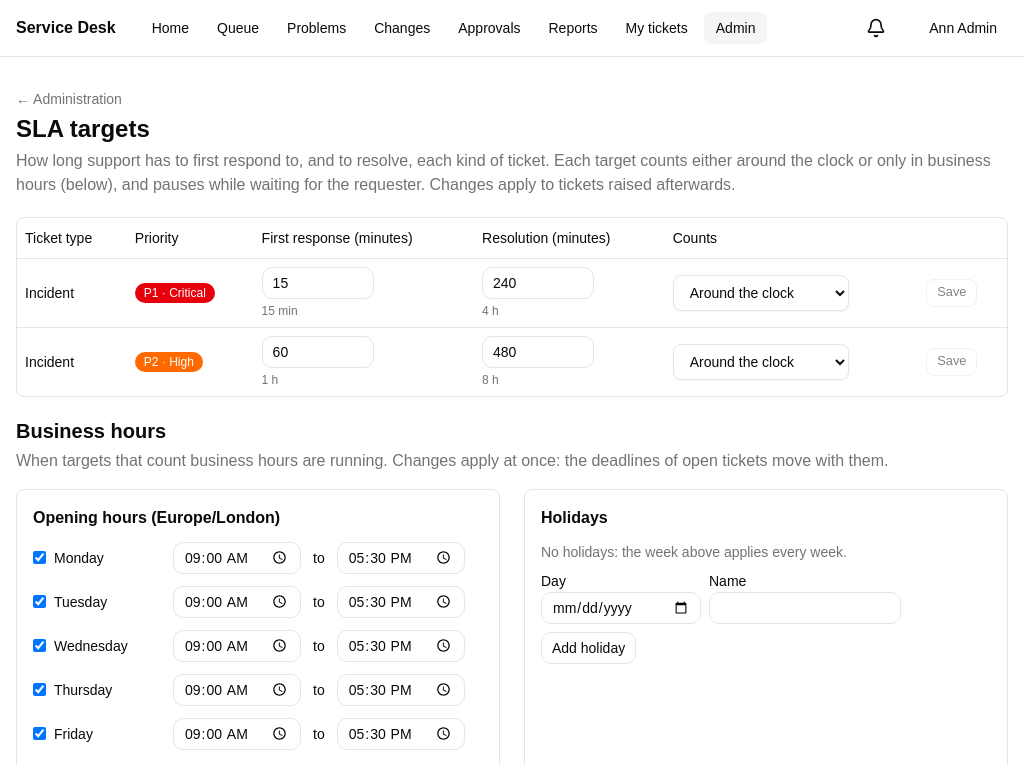
SLA targets page › adds and removes holidays, and explains a duplicate
In the date field labelled "Day": (621, 608) [541, 592, 701, 624], type "2026-12-25"
In the field labelled "Name": (805, 608) [709, 592, 901, 624], type "Christmas Day"
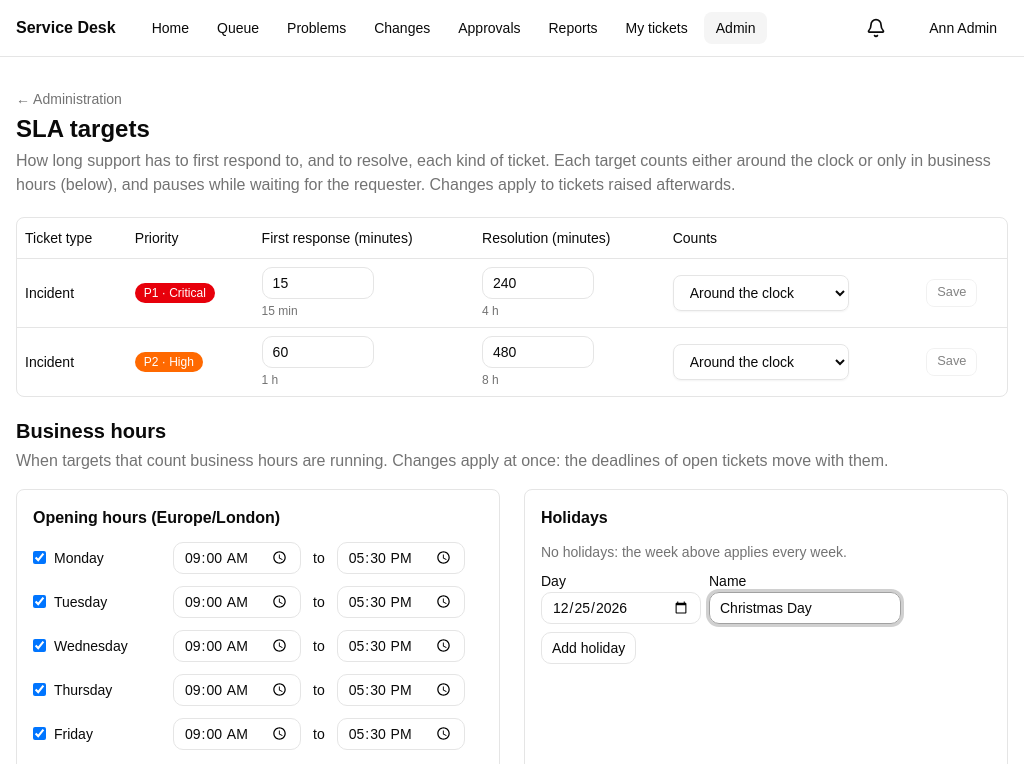
Click the button "Add holiday": (589, 648) [541, 632, 636, 664]
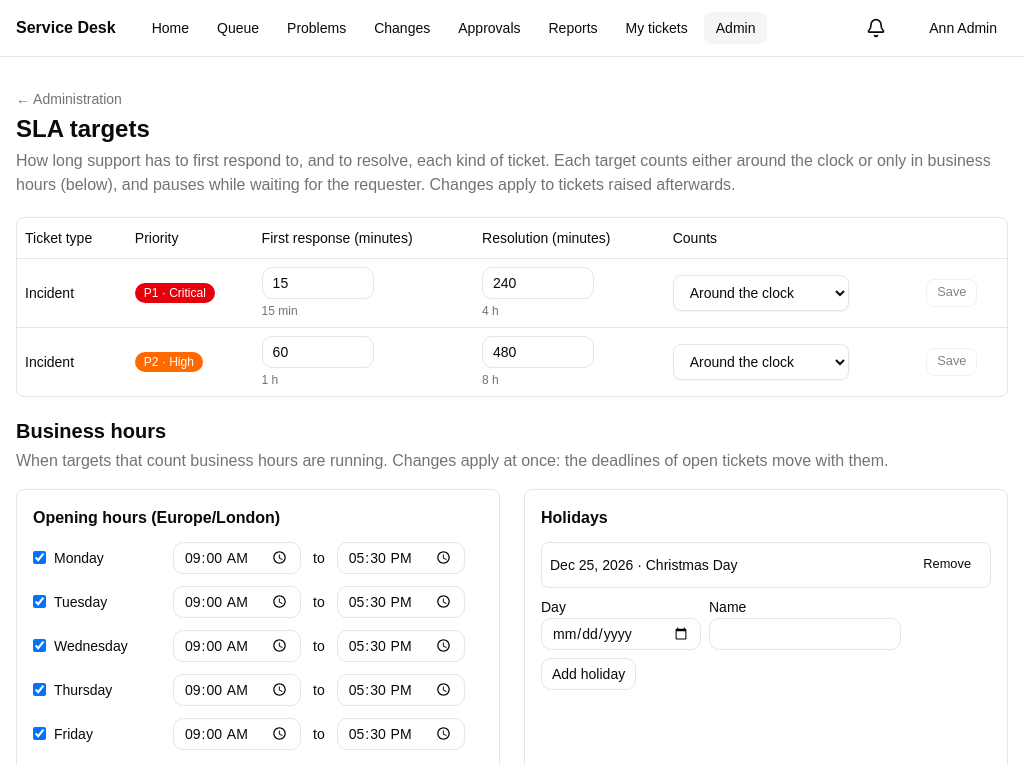
Check: the text "Christmas Day" is shown, box [646, 556, 738, 572]
In the date field labelled "Day": (621, 634) [541, 618, 701, 650], type "2026-12-25"
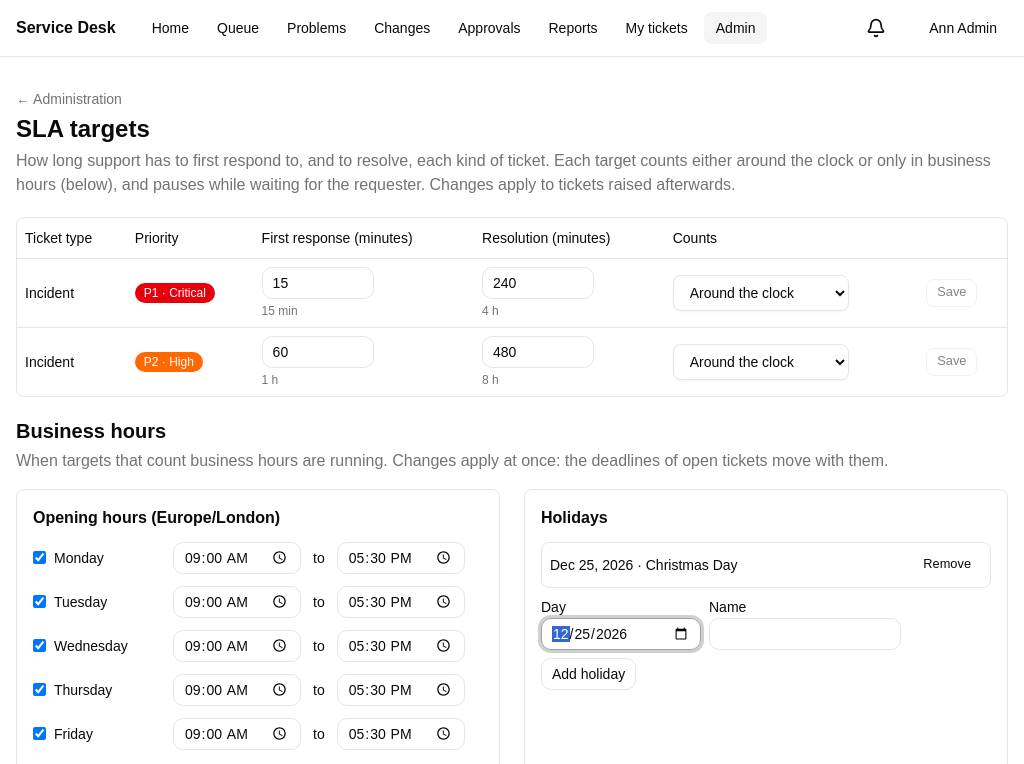
In the field labelled "Name": (805, 634) [709, 618, 901, 650], type "Christmas Day"
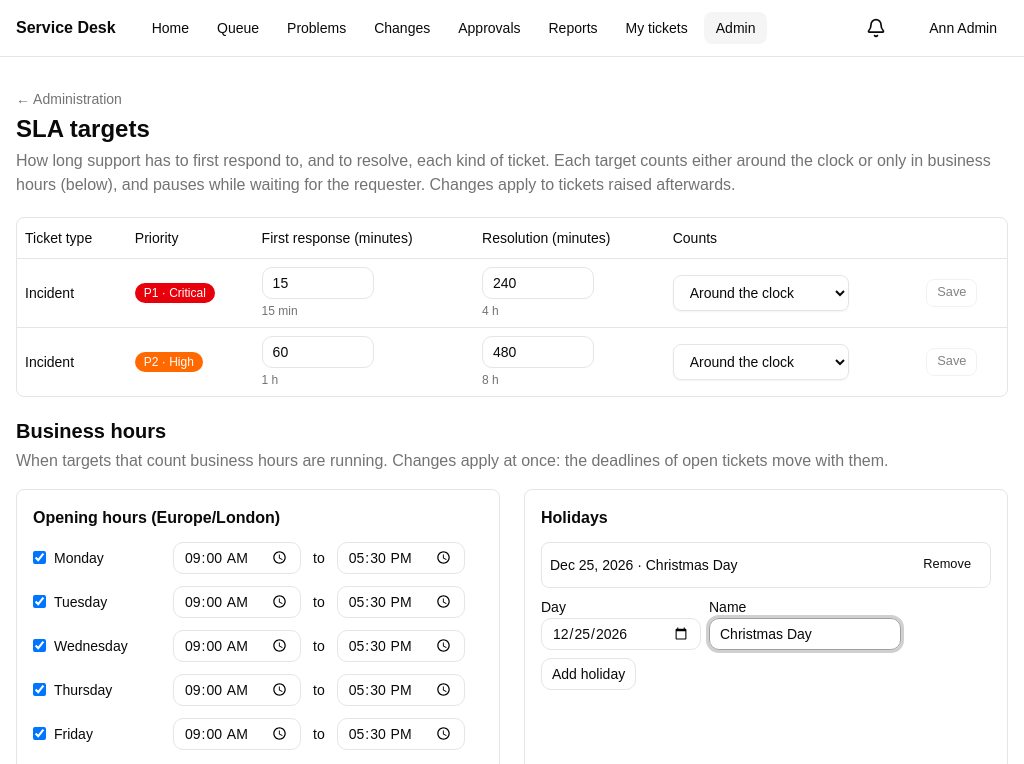
Click the button "Add holiday": (589, 674) [541, 658, 636, 690]
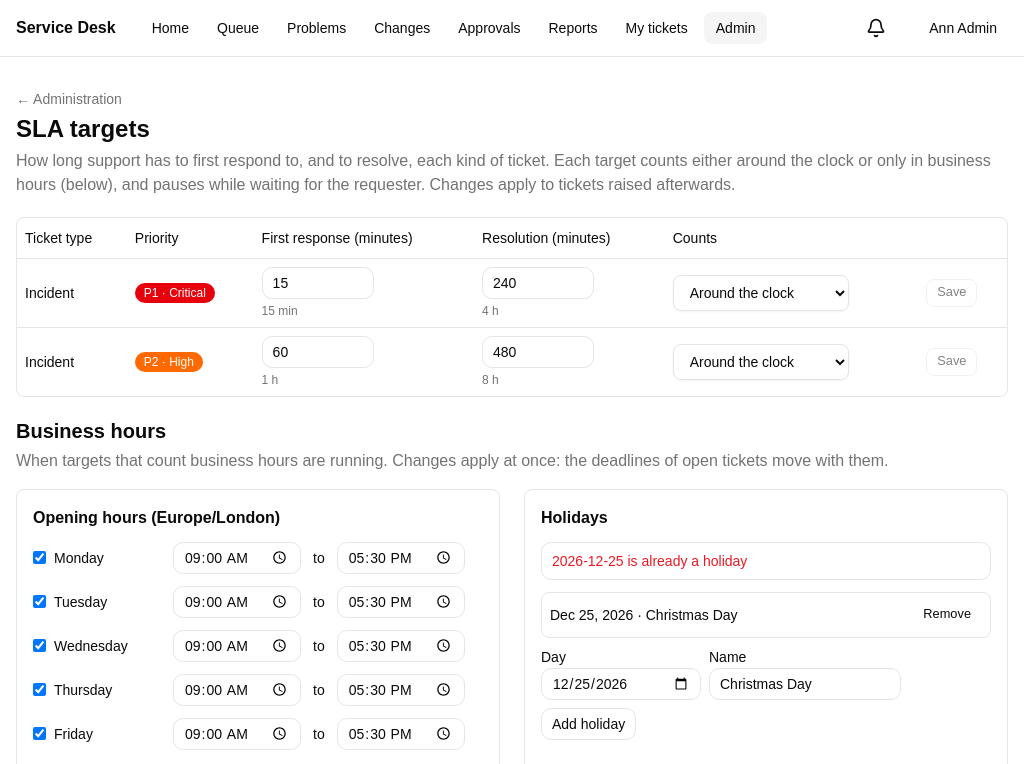
Check: the message shows "already a holiday", box [552, 552, 747, 568]
Click the button with aria-label "Remove Christmas Day": (947, 614) [912, 600, 982, 628]
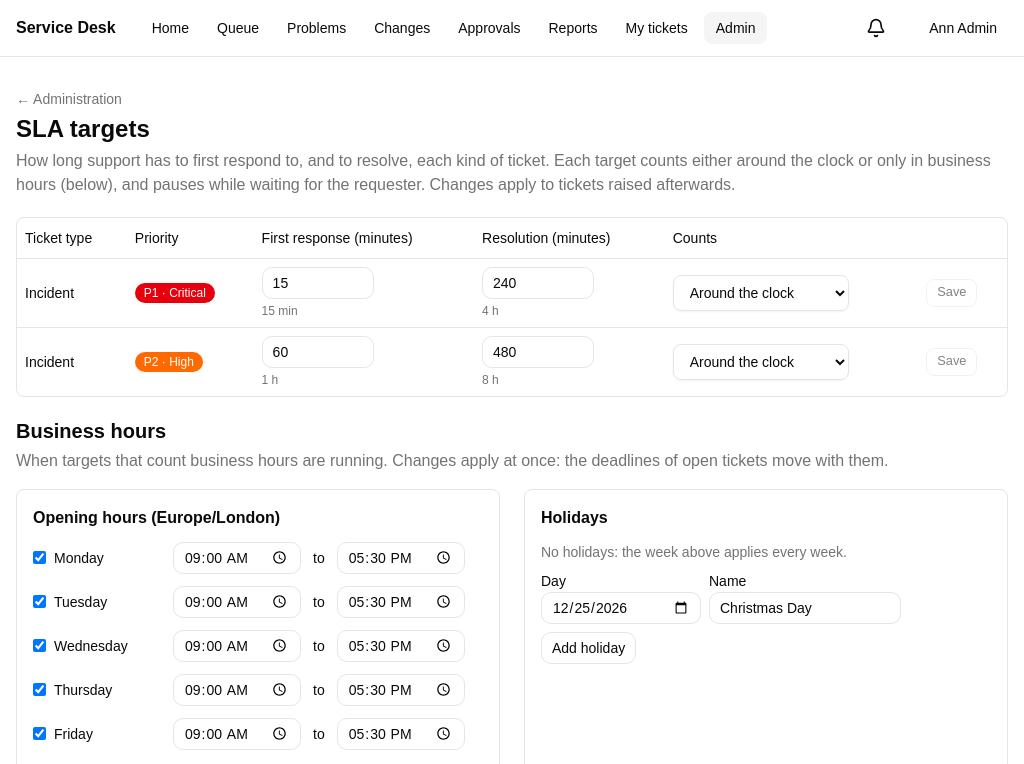
Check: the text "No holidays: the week above applies every week." is shown, box [541, 544, 847, 560]
